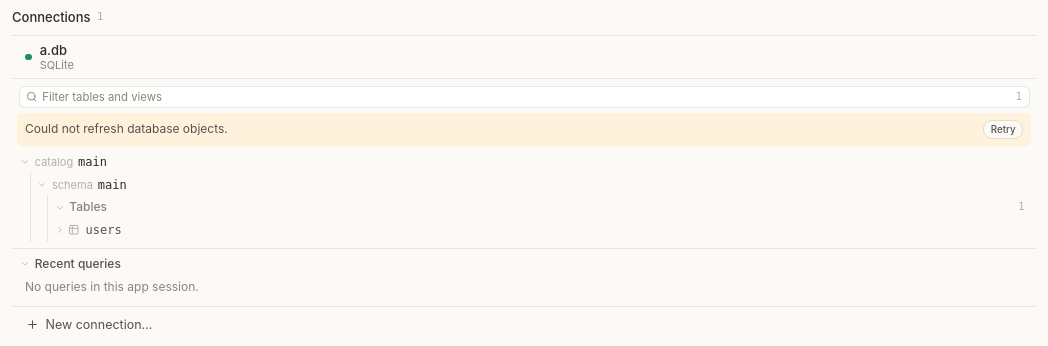
Test: DatabaseNavContent P3 metadata recovery › keeps existing tables visible and retries a structured metadata failure
The image size is (1048, 346).
Expected: the text "users" is shown, left=86, top=221, right=122, bottom=239
Expected: the message shows "Could not refresh database objects.", left=25, top=121, right=228, bottom=136
Click the button with aria-label "Retry object refresh".
click(1003, 129)  # box left=983, top=120, right=1023, bottom=139
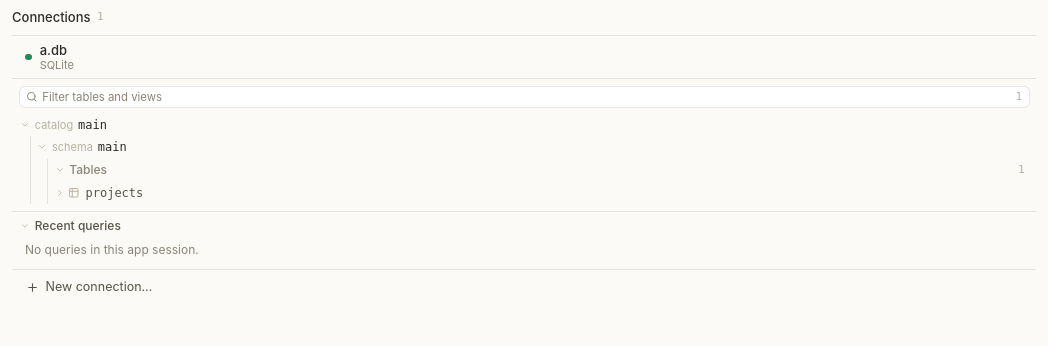
Expected: the text "projects" is shown, left=86, top=184, right=143, bottom=202
Expected: the text "Could not refresh database objects." is gone
